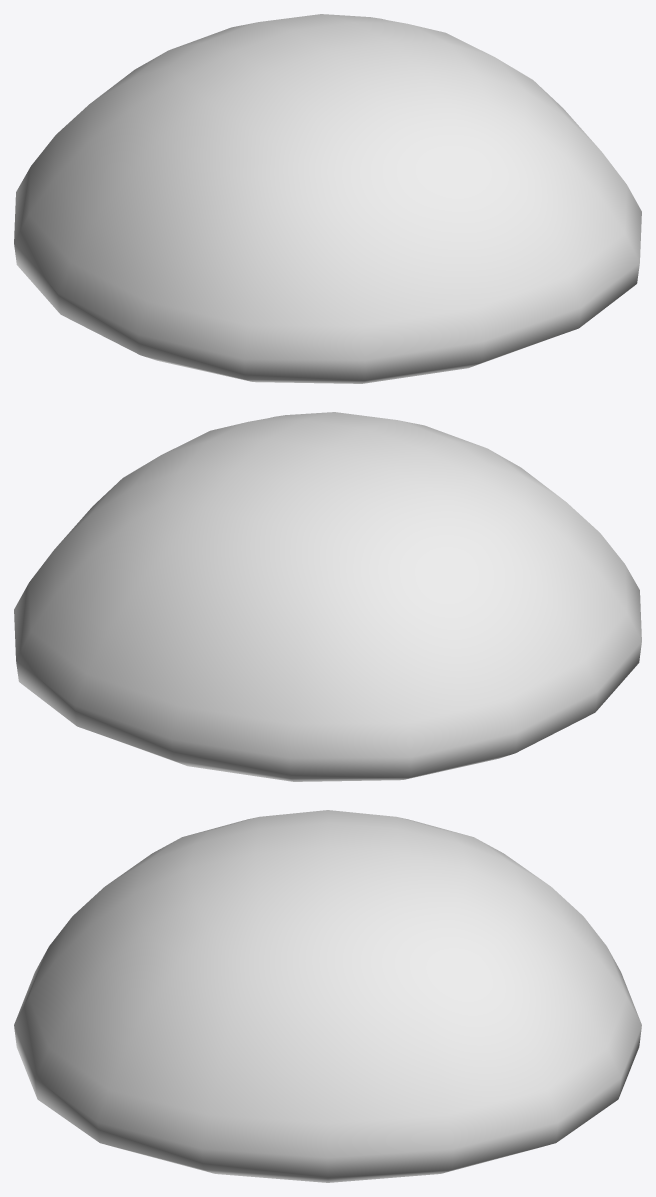
Rendered from FoodIngredient_Rice.fbx.
3 views of the same model, one above another, from view 1: azimuth 30°, elevation 25°; view 2: azimuth 150°, elevation 25°; view 3: azimuth 270°, elevation 25° (orthographic).
Parts seen in each view (by area): view 1: FoodIngredient_Rice; view 2: FoodIngredient_Rice; view 3: FoodIngredient_Rice.
Part boxes in pixels (x1,y1,x2,y2): FoodIngredient_Rice: (14,14,641,383); FoodIngredient_Rice: (14,412,641,781); FoodIngredient_Rice: (14,810,641,1182).
Bounding box in the file's own units: 108 × 44.59 × 108.
